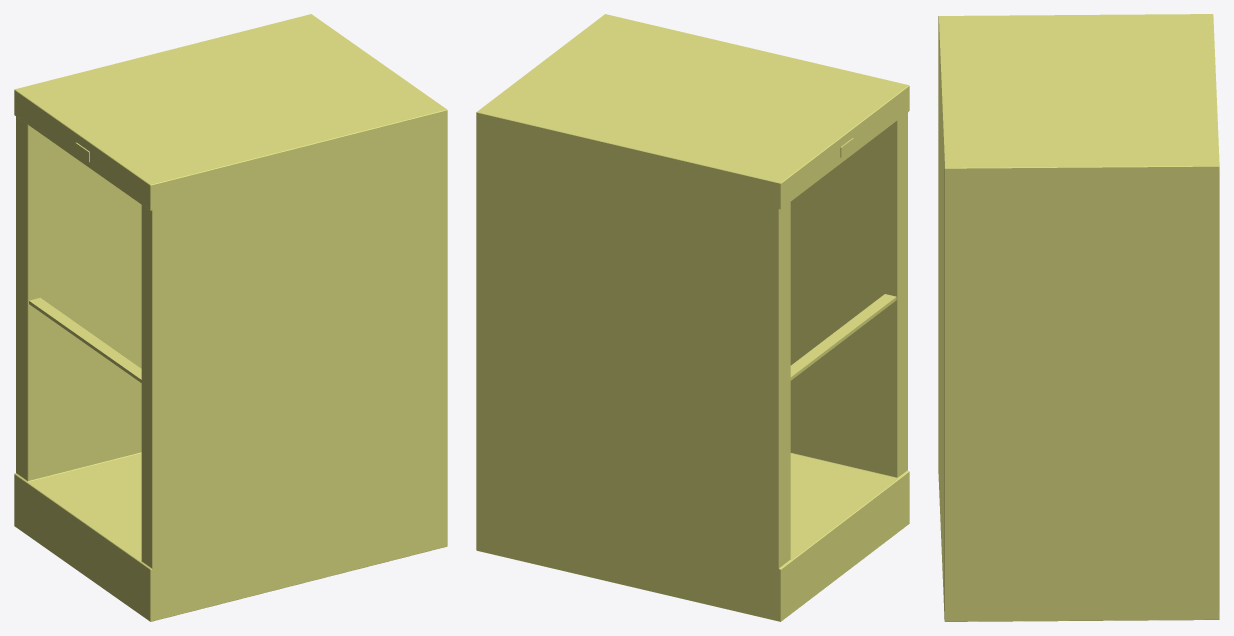
Rendered from Cabinat_small_v01_01_alsu.fbx.
3 views of the same model, side by side, from view 1: azimuth 30°, elevation 25°; view 2: azimuth 150°, elevation 25°; view 3: azimuth 270°, elevation 25° (orthographic). The views are drawn at different scales.
Parts seen in each view (by area): view 1: poly_cabinat_01; view 2: poly_cabinat_01; view 3: poly_cabinat_01.
Part boxes in pixels (x1=…): poly_cabinat_01: x1=14, y1=14, x2=447, y2=621; poly_cabinat_01: x1=476, y1=14, x2=909, y2=621; poly_cabinat_01: x1=938, y1=14, x2=1219, y2=621.
Bounding box in the file's own units: 68.12 × 93.4 × 52.46.
